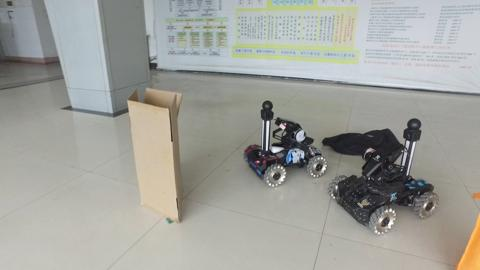box: (126, 85, 188, 227)
chariot: (331, 118, 440, 228), (241, 100, 328, 187)
